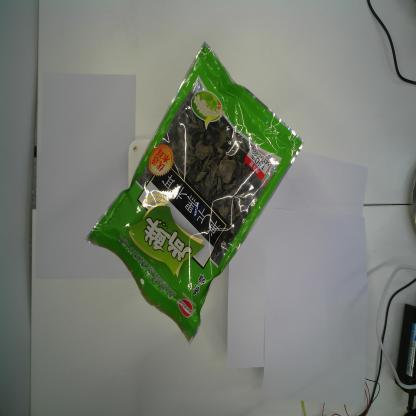Dried Food: (84, 42, 305, 345)
